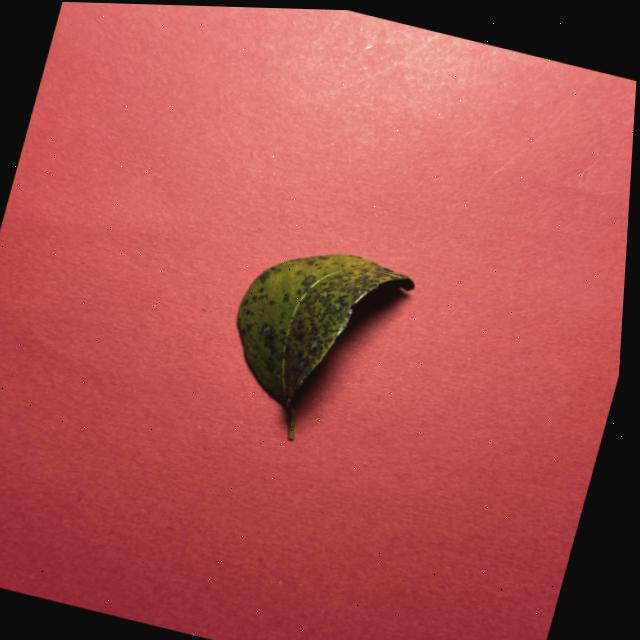sooty_mold: (237, 253, 412, 438)
